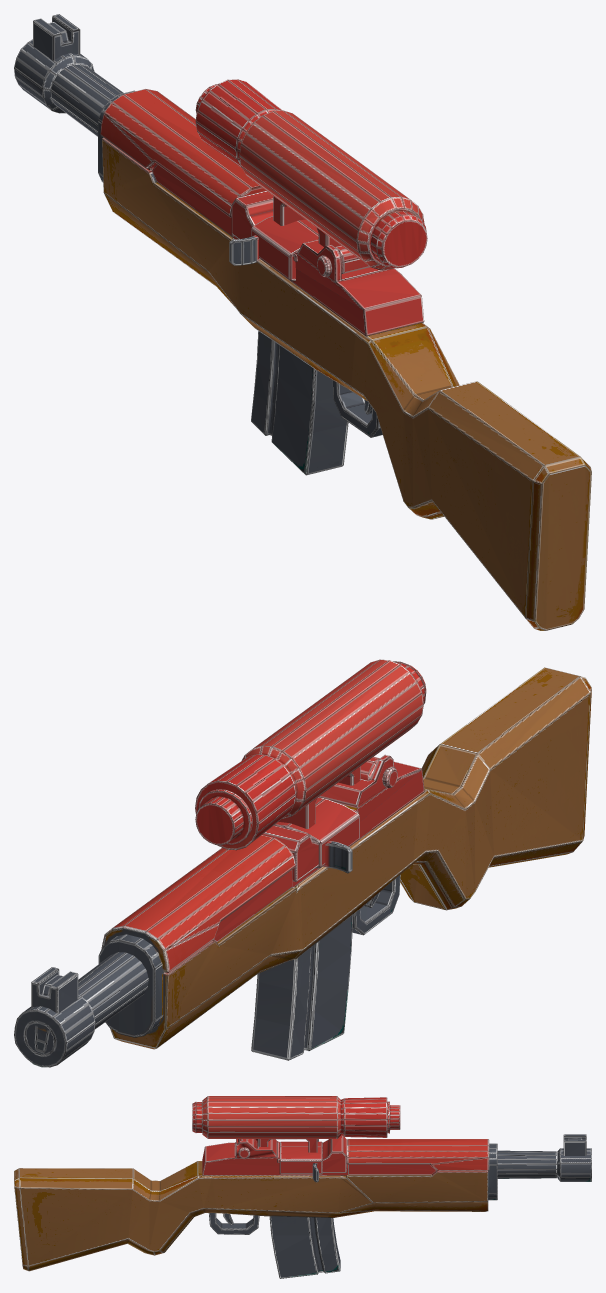
The model's file is marqueur.glb.
3 views of the same model, one above another, from view 1: azimuth 30°, elevation 25°; view 2: azimuth 150°, elevation 25°; view 3: azimuth 270°, elevation 25° (orthographic). The views are drawn at different scales.
Visible parts, largest first — view 1: Body, Mag; view 2: Body, Mag; view 3: Body, Mag.
Part boxes in pixels (x1,y1,x2,y2): Body: (14, 14, 591, 630); Mag: (250, 323, 348, 475); Body: (14, 659, 591, 1067); Mag: (251, 915, 353, 1060); Body: (14, 1096, 591, 1271); Mag: (269, 1216, 340, 1278).
Bounding box in the file's own units: 0.1247 × 0.3171 × 0.9421.
1 material, 1 textured.
